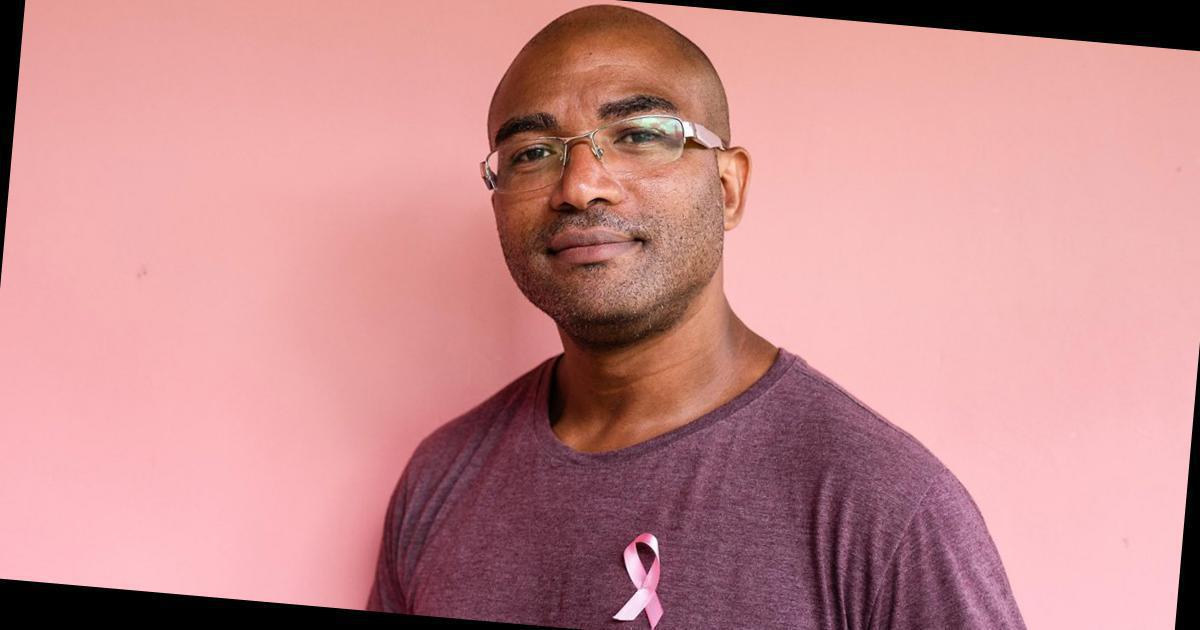Sober: (493, 40, 713, 293)
